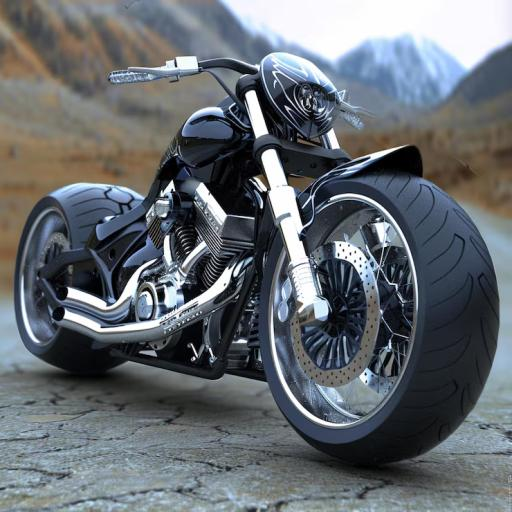bike-detection: (12, 32, 512, 460)
